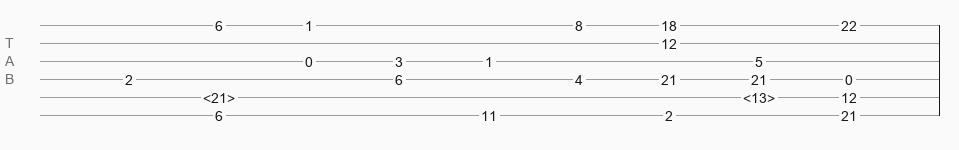0: (305, 54, 313, 64), (845, 72, 853, 82)
1: (305, 18, 313, 28), (485, 54, 493, 64)
11: (481, 108, 497, 118)
12: (661, 36, 677, 46), (841, 90, 857, 100)
18: (661, 18, 677, 28)
2: (125, 72, 133, 82), (665, 108, 673, 118)
21: (661, 72, 677, 82), (751, 72, 767, 82), (841, 108, 857, 118)
22: (841, 18, 857, 28)
3: (395, 54, 403, 64)
4: (575, 72, 583, 82)
5: (755, 54, 763, 64)
6: (215, 108, 223, 118), (215, 18, 223, 28), (395, 72, 403, 82)
8: (575, 18, 583, 28)
harmonic: (203, 90, 235, 100), (743, 90, 775, 100)
